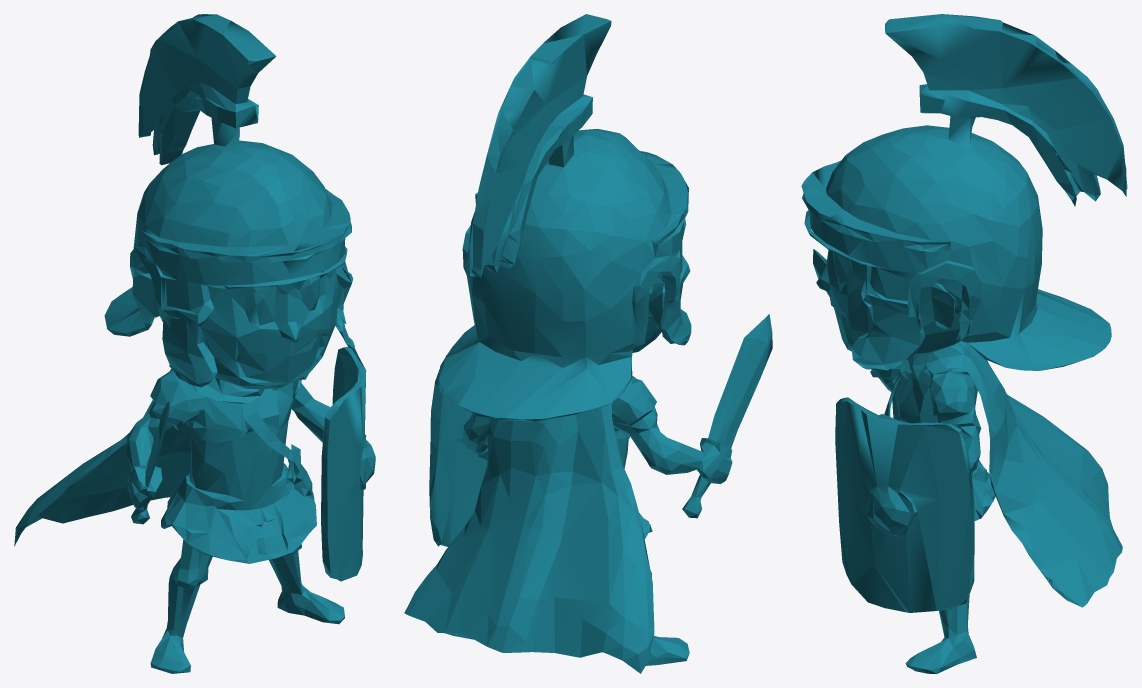
Rendered from romanoAzul.glb.
3 views of the same model, side by side, from view 1: azimuth 30°, elevation 25°; view 2: azimuth 150°, elevation 25°; view 3: azimuth 270°, elevation 25° (orthographic). The views are drawn at different scales.
Visible parts, largest first — view 1: temp; view 2: temp; view 3: temp.
Boxes of the visible parts, left/top/right/bottom form: temp: left=14, top=14, right=375, bottom=673; temp: left=404, top=14, right=772, bottom=673; temp: left=801, top=14, right=1127, bottom=673.
Bounding box in the file's own units: 1.88 × 3.99 × 1.95.
